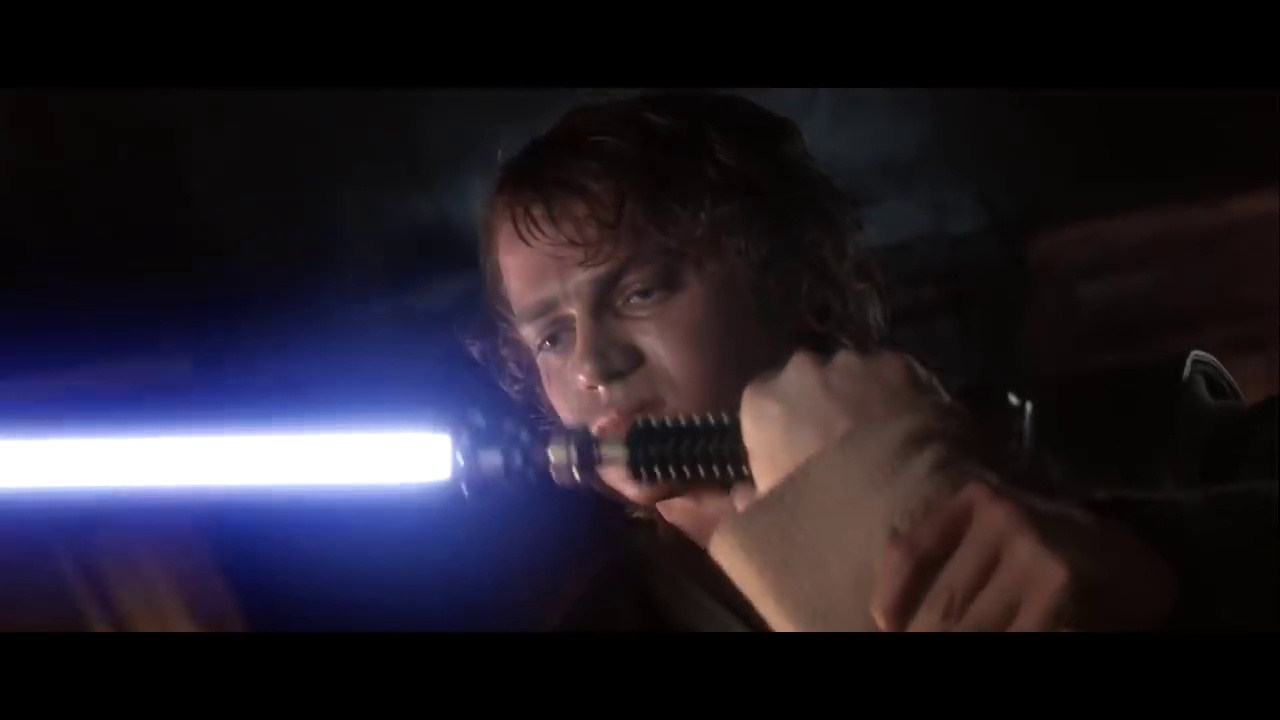lightsaber: (1, 395, 893, 512)
